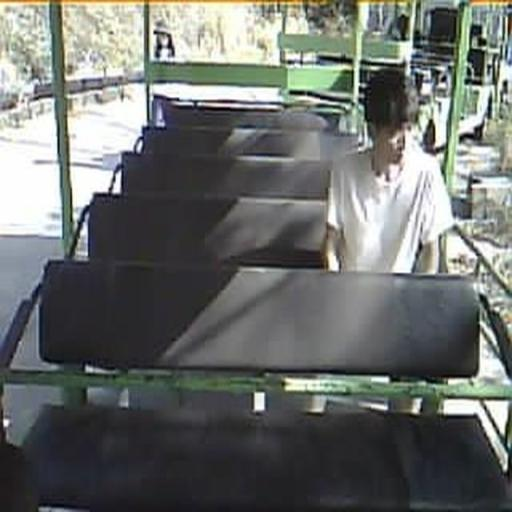persona: (320, 66, 454, 274)
